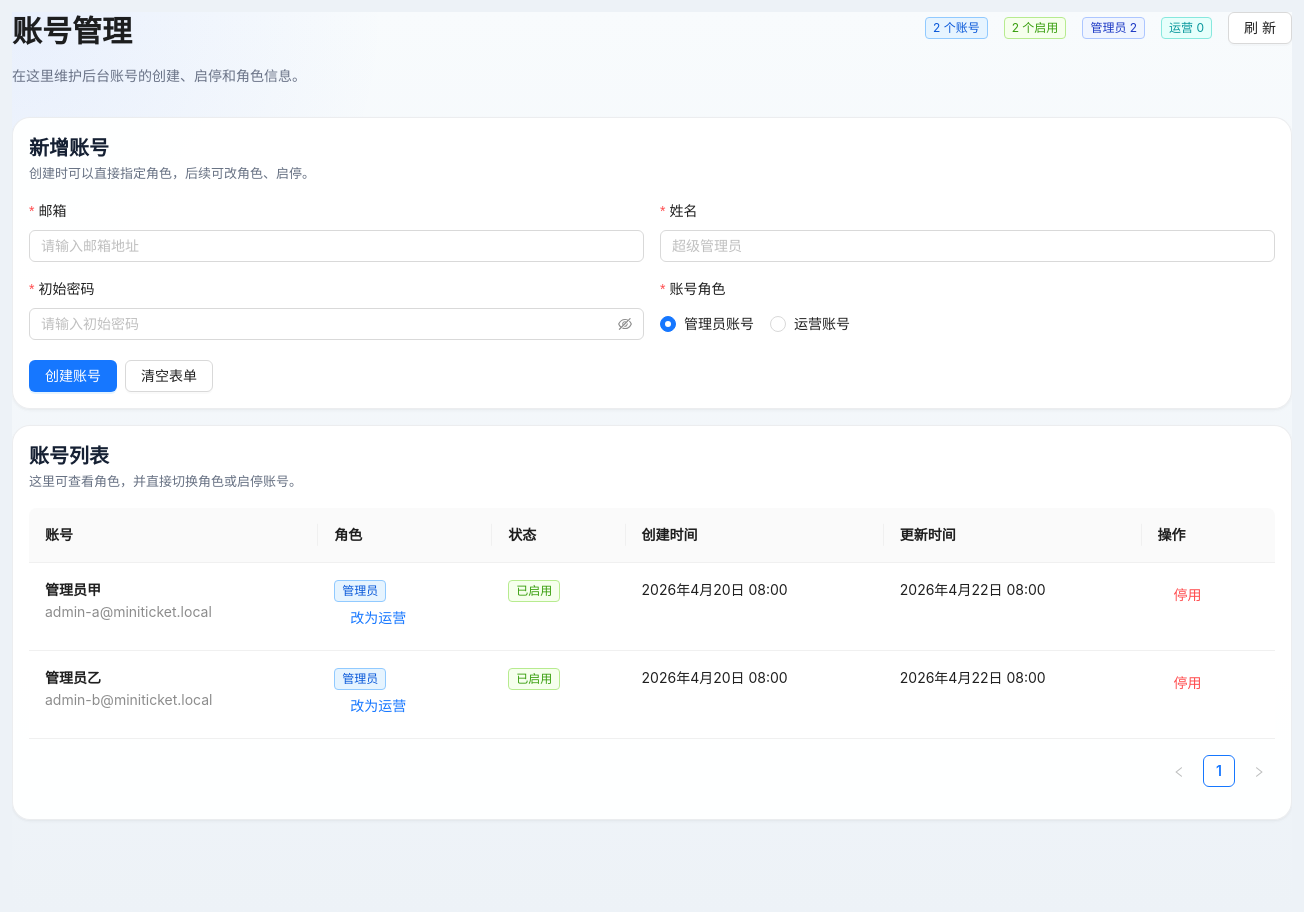
Test: UsersPage › disables other account actions while a mutation is pending
This screenshot has width=1304, height=912.
Click the button "停用" in the row of "管理员乙" at (1188, 683), box left=1158, top=667, right=1218, bottom=699
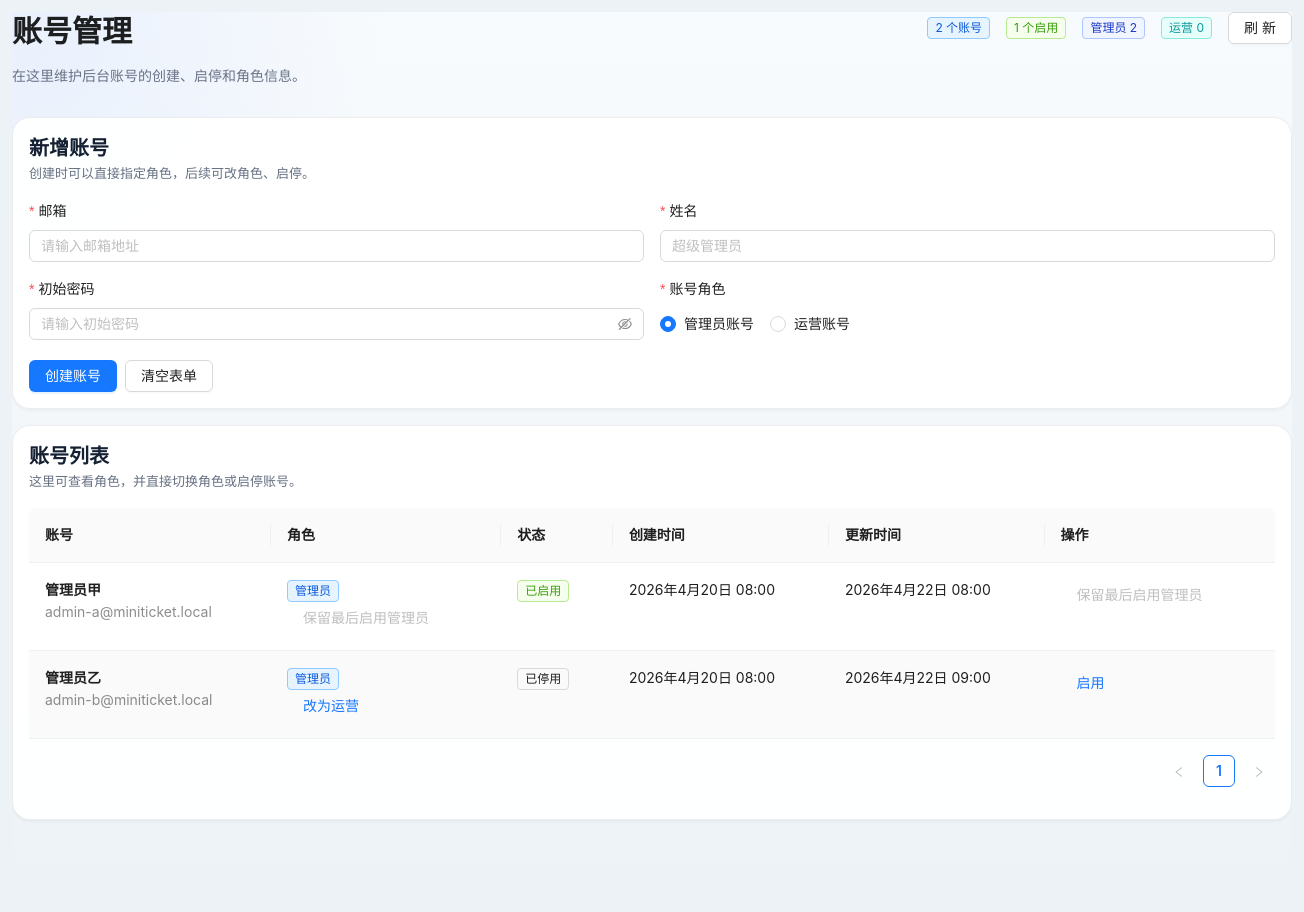
Expected: the button named "改为运营" is disabled, left=287, top=602, right=445, bottom=634
Expected: the button named "停用" is disabled, left=1061, top=579, right=1219, bottom=611
